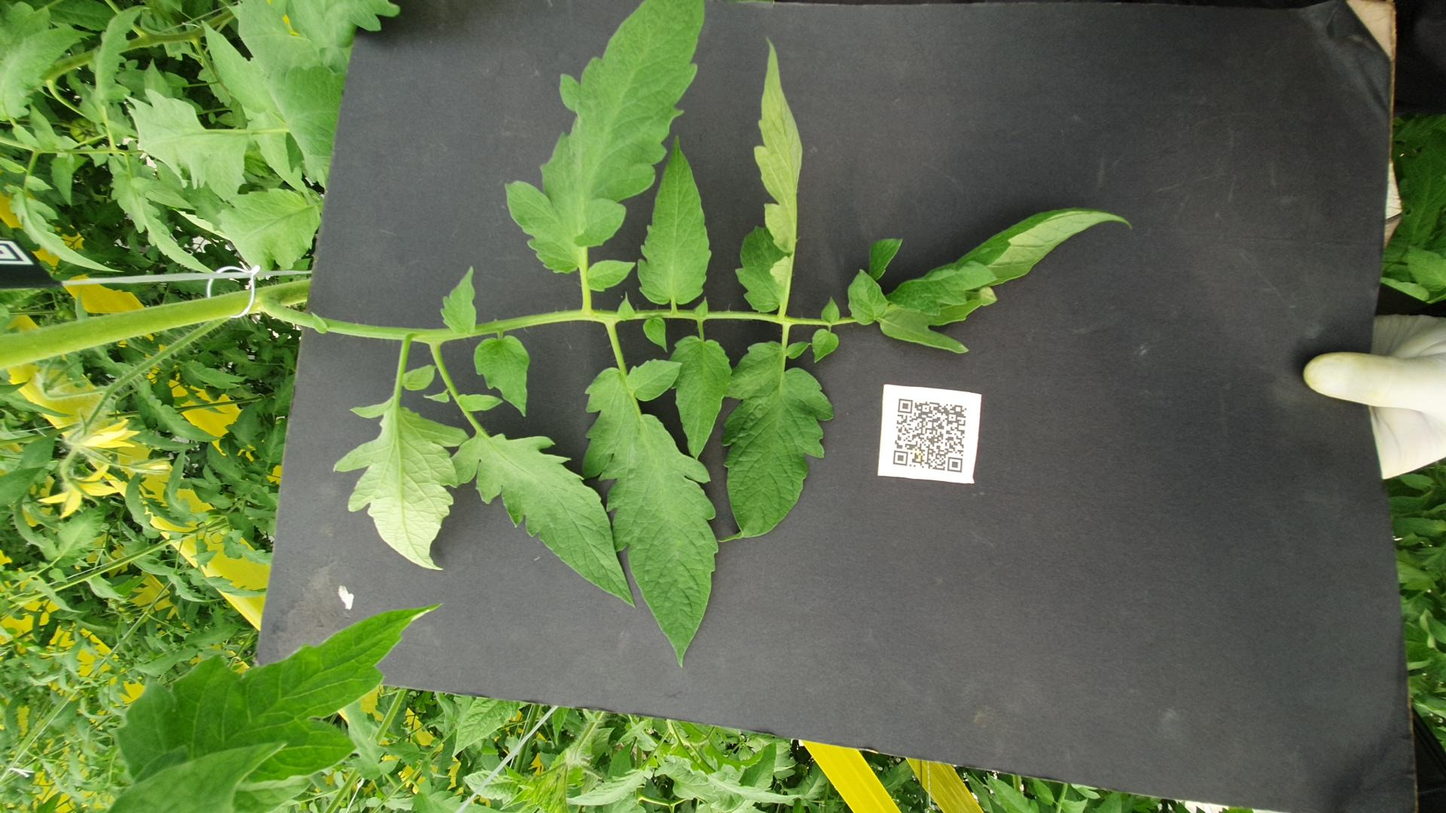Healthy: (52, 64, 373, 250), (957, 283, 1446, 396), (813, 476, 1082, 637), (258, 327, 808, 404), (364, 254, 675, 357), (424, 186, 752, 264), (480, 403, 842, 468), (888, 413, 1383, 452), (1092, 70, 1288, 140), (960, 60, 1171, 123), (905, 357, 1207, 401), (963, 2, 1135, 69), (962, 122, 1113, 183), (1234, 0, 1396, 55), (624, 377, 854, 411), (656, 76, 773, 127), (704, 266, 853, 298), (97, 253, 206, 292), (10, 318, 83, 368), (850, 246, 975, 270), (0, 553, 75, 584), (21, 260, 77, 294), (927, 330, 987, 358)
